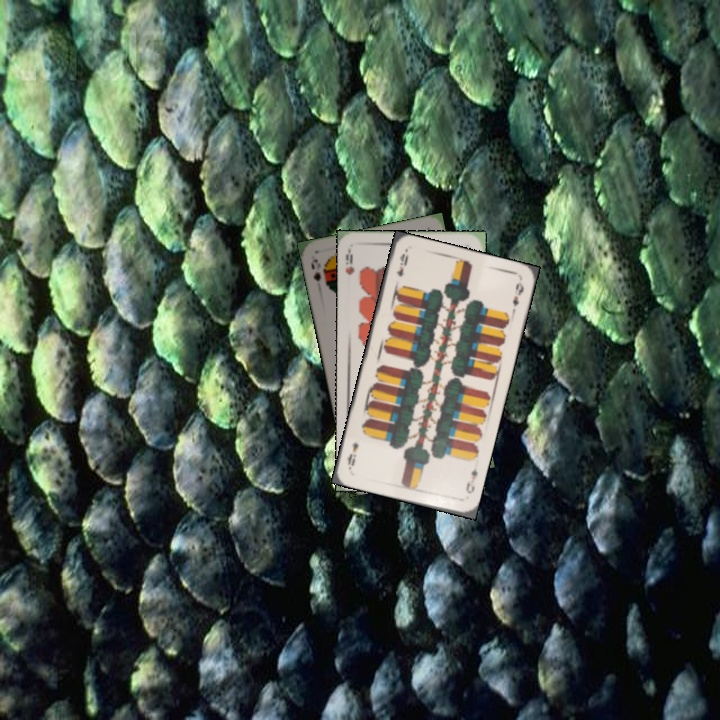E9: (462, 465, 480, 496), (392, 250, 411, 279)
H9: (342, 246, 357, 277)
SO: (307, 255, 323, 284)
